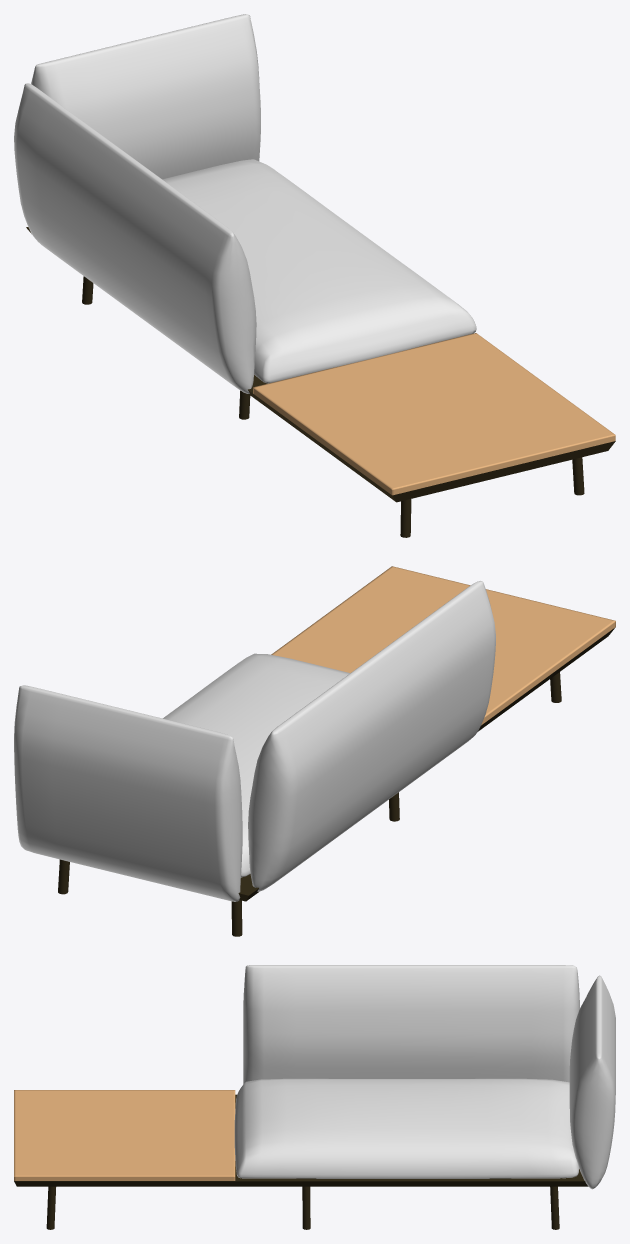
File: MSH_Roof2_SillonMesa.fbx
3 renders of one model, top to bottom at view 1: azimuth 30°, elevation 25°; view 2: azimuth 150°, elevation 25°; view 3: azimuth 270°, elevation 25°, orthographic. The views are drawn at different scales.
Visible parts, largest first — view 1: MSH_Roof2_SillonMesa; view 2: MSH_Roof2_SillonMesa; view 3: MSH_Roof2_SillonMesa.
Boxes of the visible parts, x1,y1,x2,y2 form: MSH_Roof2_SillonMesa: (14, 14, 615, 537); MSH_Roof2_SillonMesa: (14, 566, 615, 936); MSH_Roof2_SillonMesa: (14, 965, 615, 1229).
Size of the model in its own units: 88.7 by 72.99 by 225.
